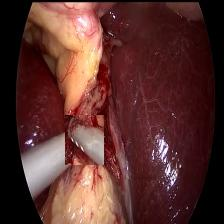Irrigator: (64, 113, 103, 164)
